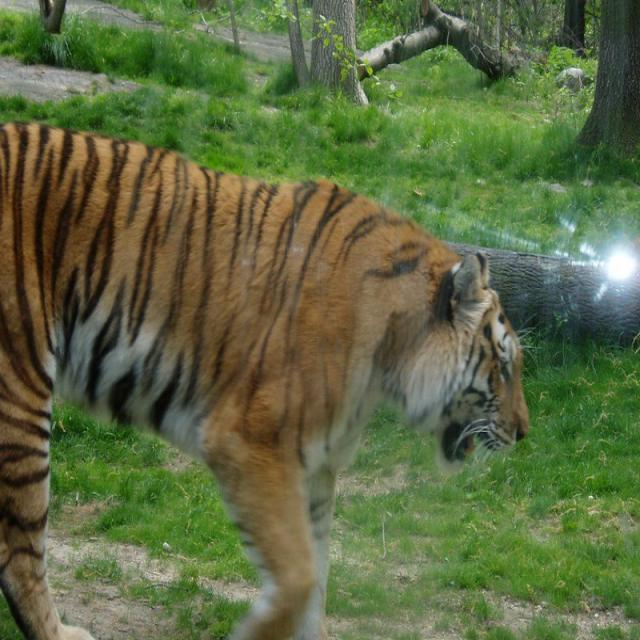Tiger: (0, 114, 533, 638)
